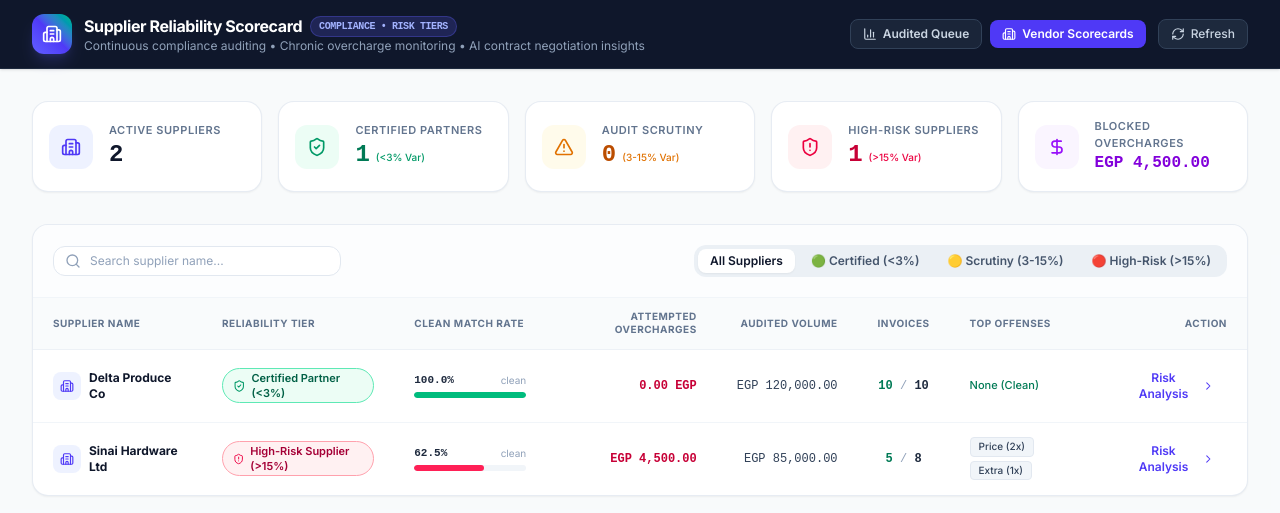
Test: VendorScorecardClient Component › filters suppliers by reliability tier button
The image size is (1280, 513).
Expected: the text "Delta Produce Co" is shown, x1=89 y1=370 x2=182 y2=402
Note: Click "High-Risk" tab button
What coordinates should you click on to do the following:
click the button "🔴 High-Risk (>15%)"
I would click on:
 (1151, 261)
Its box is x1=1080 y1=249 x2=1223 y2=273.
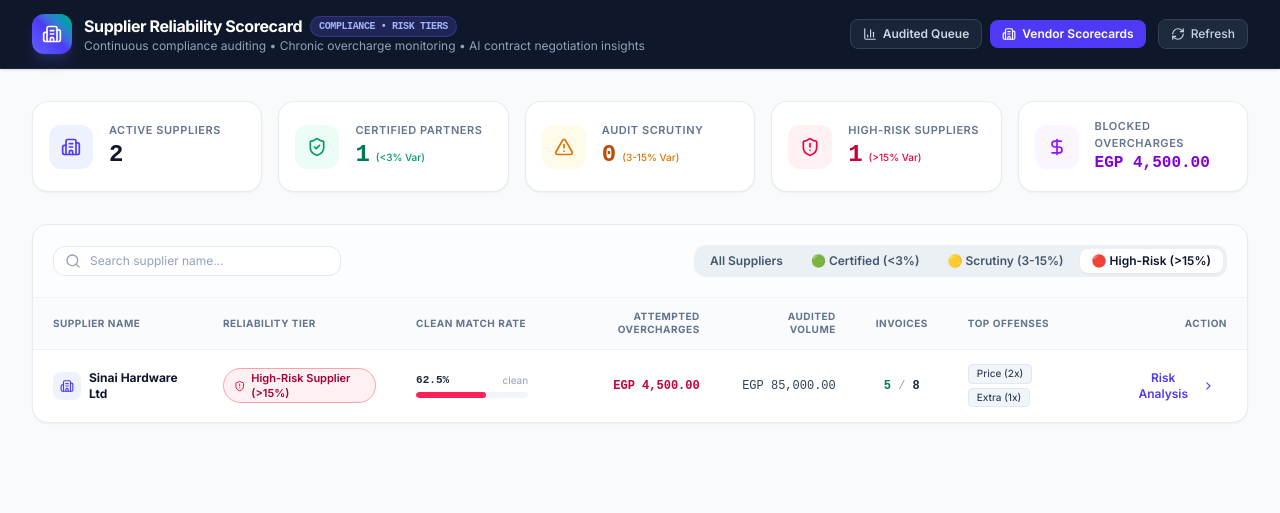
Expected: the text "Sinai Hardware Ltd" is shown, x1=89 y1=370 x2=183 y2=402
Result: the text "Delta Produce Co" is gone
